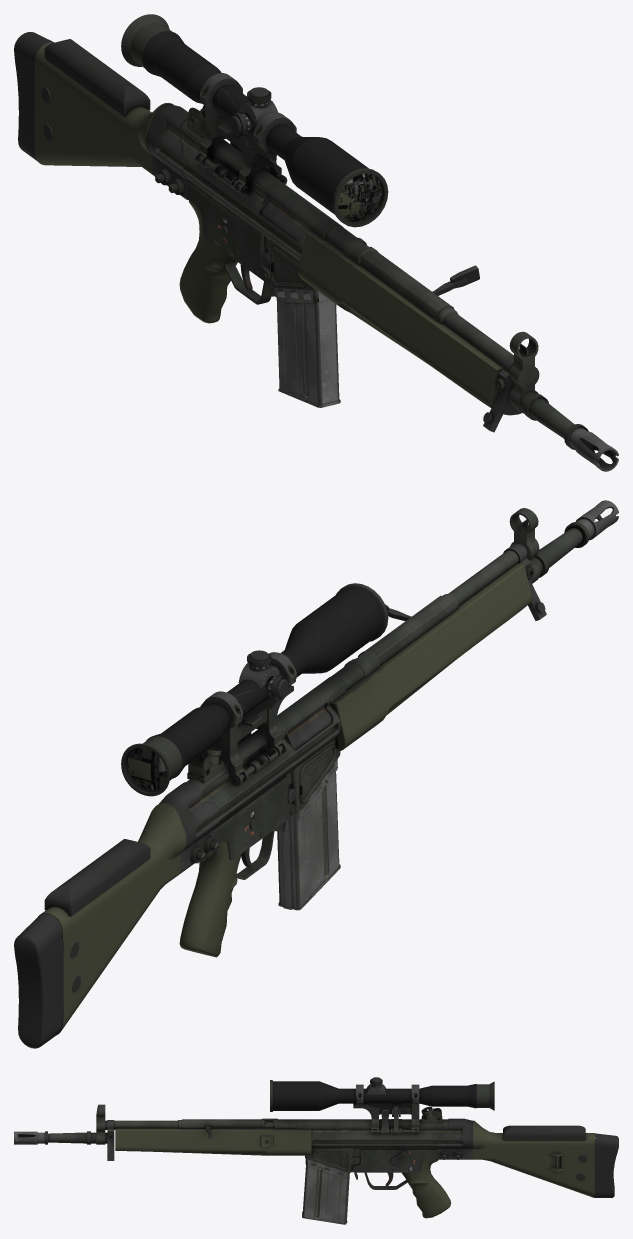
3 renders of one model, top to bottom at view 1: azimuth 30°, elevation 25°; view 2: azimuth 150°, elevation 25°; view 3: azimuth 270°, elevation 25°, orthographic. The views are drawn at different scales.
Visible parts, largest first — view 1: g3sg1; view 2: g3sg1; view 3: g3sg1.
Part boxes in pixels (bbox=[...]): g3sg1: bbox=[14, 14, 618, 471]; g3sg1: bbox=[14, 500, 618, 1048]; g3sg1: bbox=[14, 1077, 618, 1224].
Bounding box in the file's own units: 3.71 × 10.95 × 41.98.
1 material, 1 textured.
